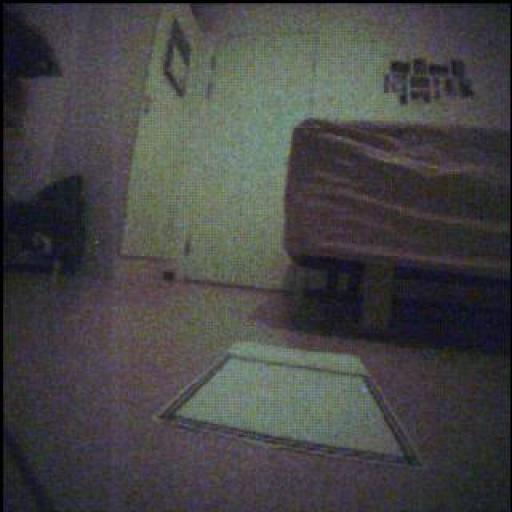pad: (156, 344, 422, 467)
